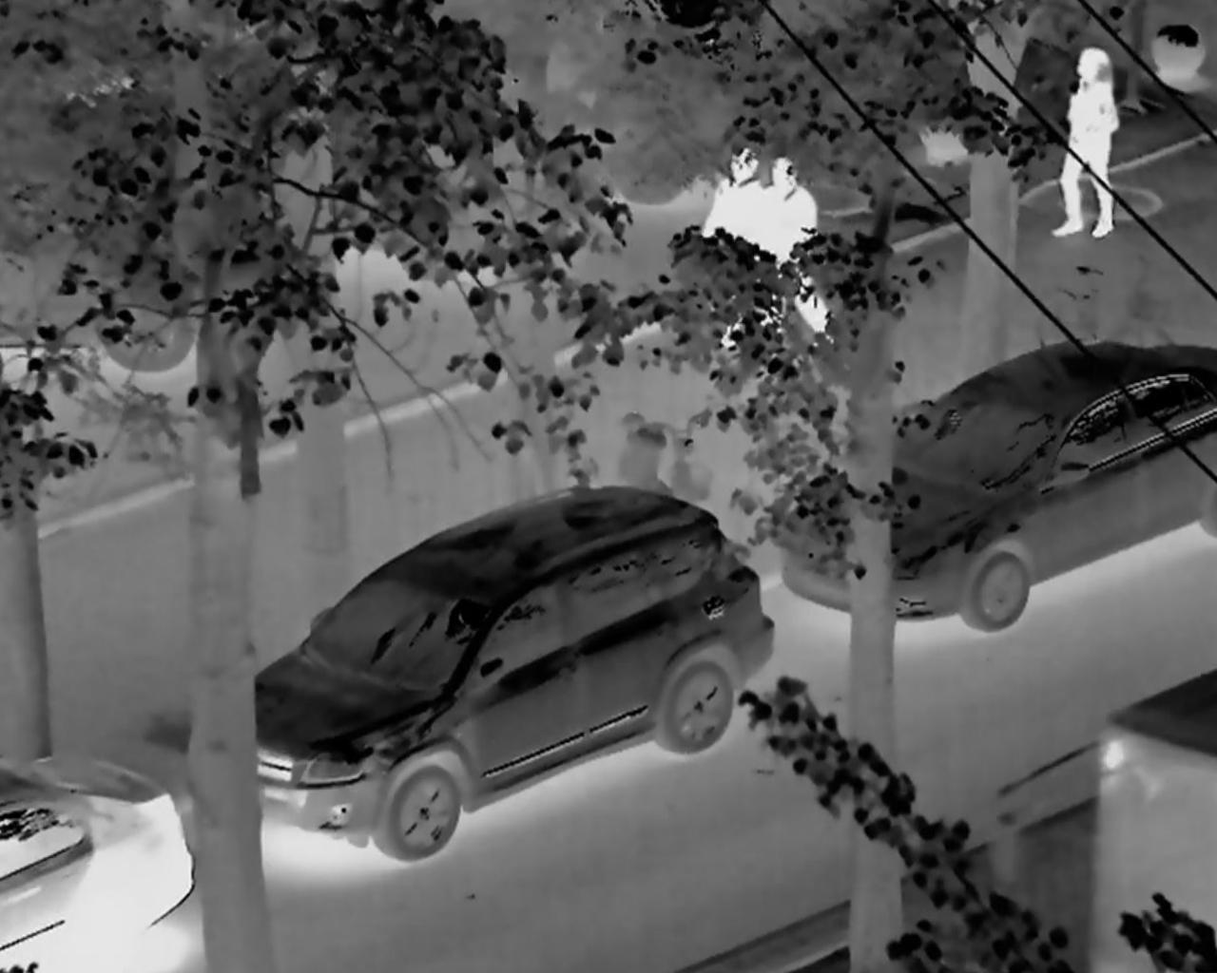person: (1051, 41, 1127, 253), (760, 158, 838, 345), (700, 129, 764, 352)
